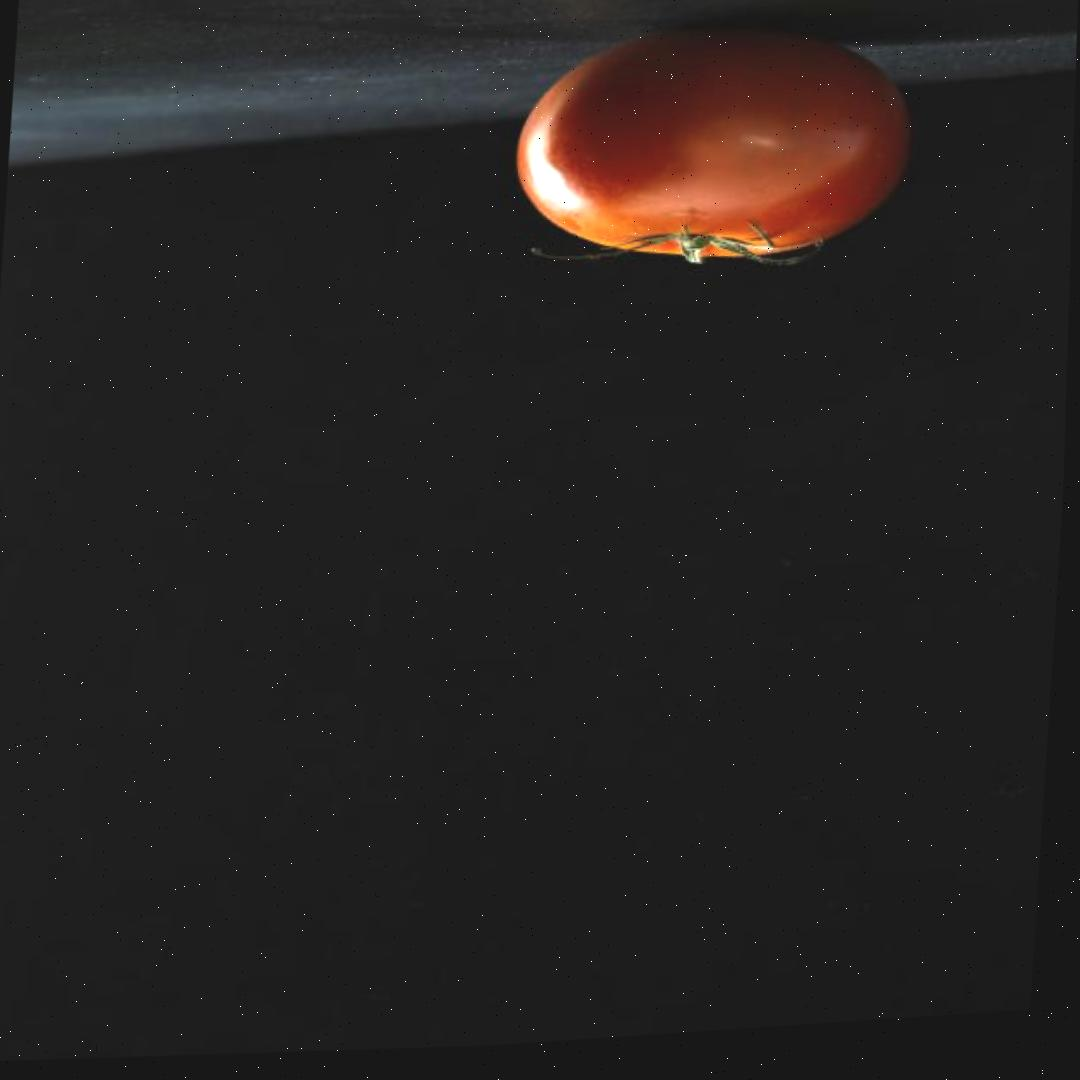matang: (510, 9, 921, 276)
